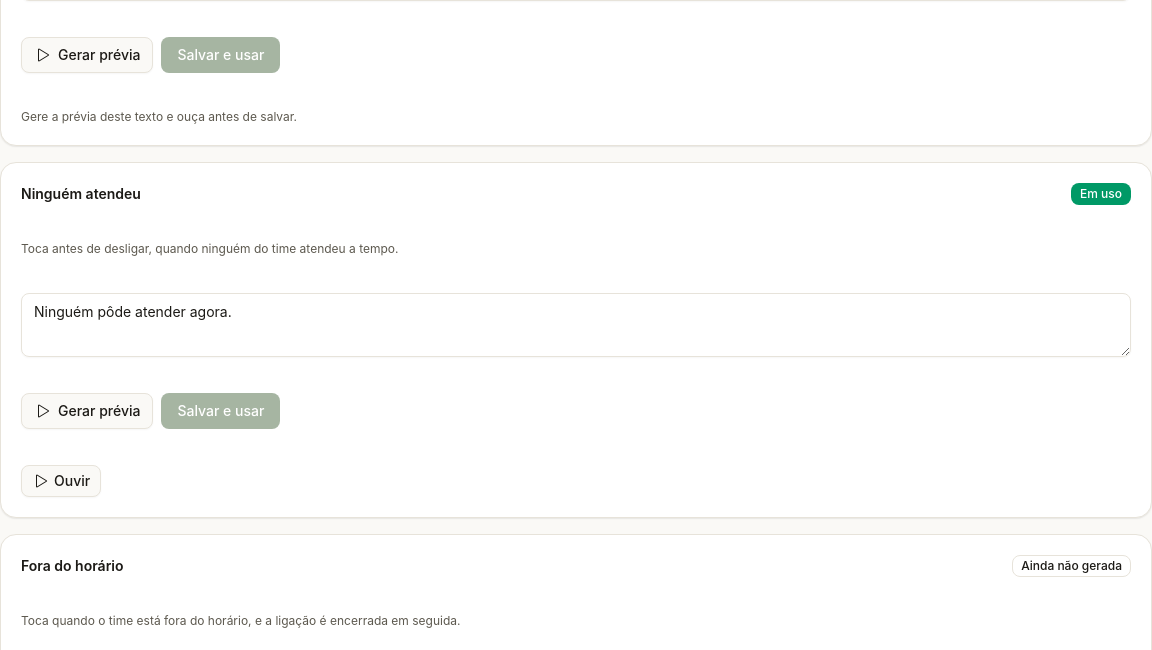
Test: aba Voz e falas — o estado da fala em uso › a falha da prévia de um texto novo NÃO apaga o 'Em uso' — e some quando a pessoa edita o texto
(page scrolled)
Expected: the heading "Fora do horário" is shown, [21,556,124,576]
Type " Obrigado." into the text box below "Ninguém atendeu" at (576, 325), box [21,293,1131,357]
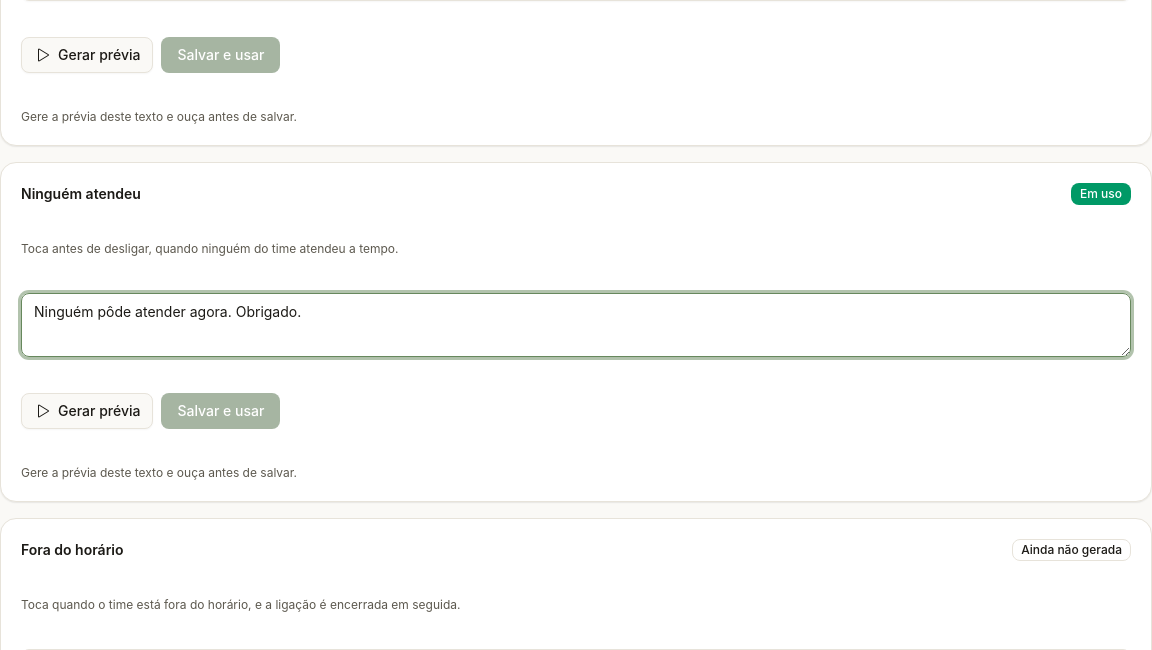
Click the button "Gerar prévia" below "Ninguém atendeu" at (87, 411), box [21,393,153,429]
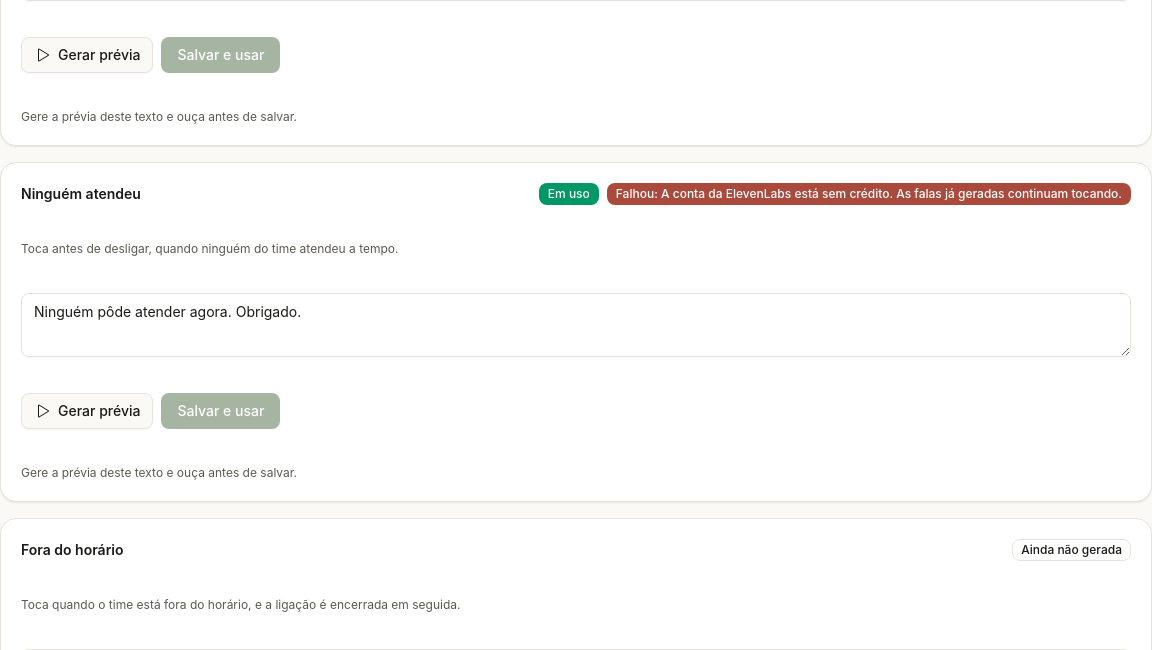
Expected: the text "A conta da ElevenLabs está sem" is shown, [661,186,1122,201]
Type "!" into the text box below "Ninguém atendeu" at (576, 325), box [21,293,1131,357]
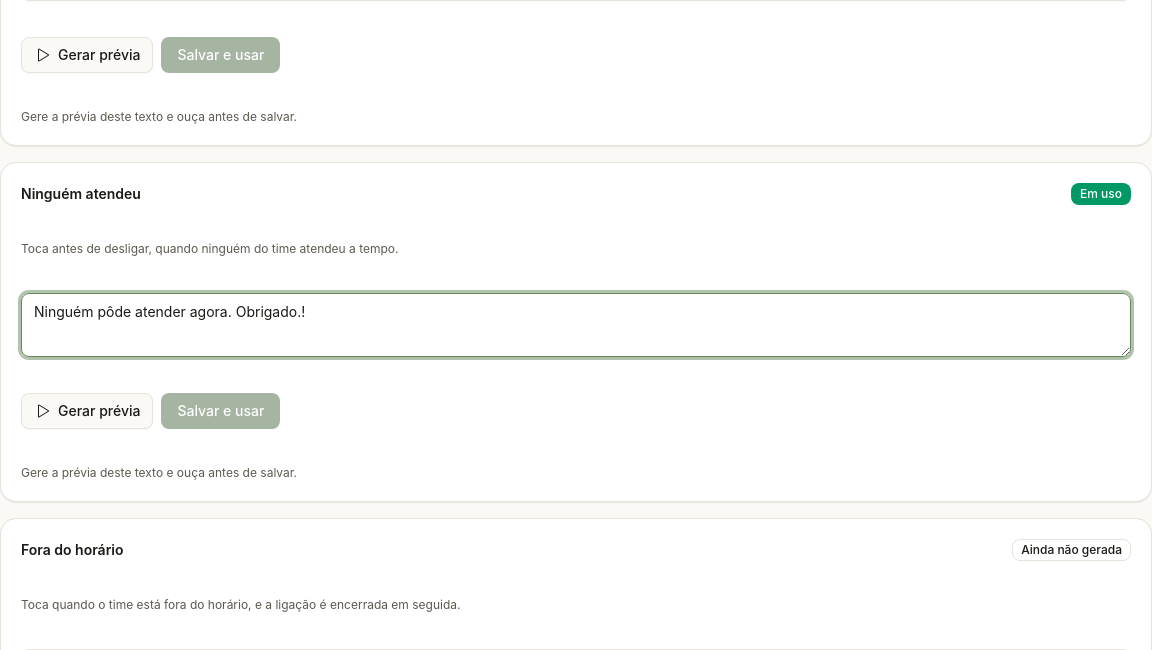
Expected: the text "A conta da ElevenLabs está sem" is gone
